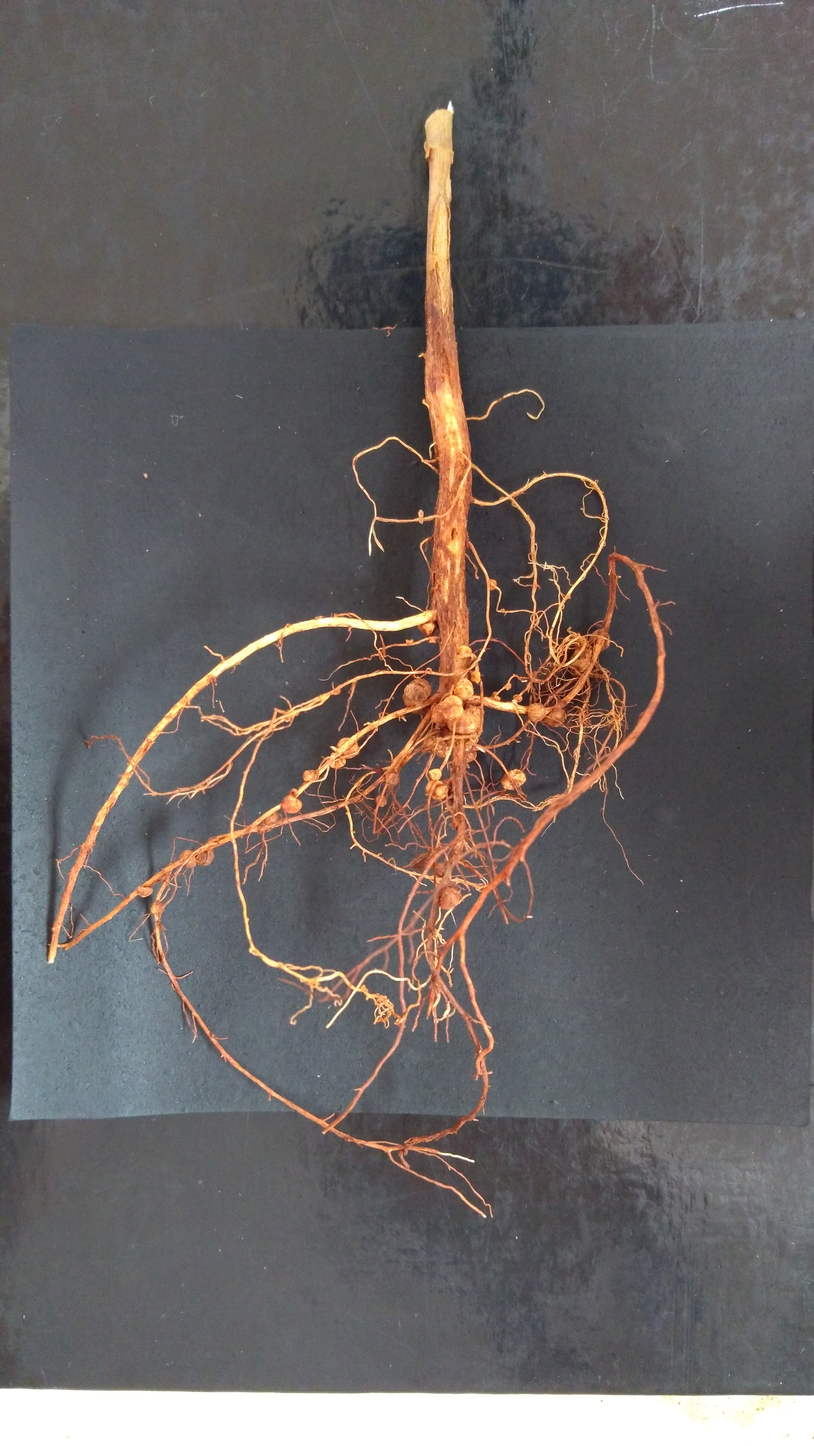nodule: (402, 678, 432, 715), (431, 695, 463, 725), (423, 728, 451, 757), (447, 708, 478, 734), (569, 647, 593, 675), (437, 885, 461, 910), (500, 769, 527, 790), (588, 629, 610, 652), (336, 737, 360, 758), (452, 678, 473, 701), (425, 780, 449, 800), (281, 794, 303, 813), (543, 709, 566, 727), (528, 702, 546, 722), (178, 849, 196, 868), (196, 848, 214, 866), (417, 622, 437, 638), (463, 743, 478, 763), (329, 752, 346, 769), (446, 792, 465, 807), (150, 899, 166, 915), (262, 811, 278, 826), (456, 645, 473, 659), (136, 885, 154, 898), (385, 772, 400, 785), (434, 862, 446, 878), (428, 768, 442, 781), (375, 794, 388, 807), (469, 670, 481, 684), (465, 737, 478, 749), (302, 770, 315, 782), (448, 817, 459, 830), (488, 578, 497, 591), (426, 636, 439, 645), (417, 509, 424, 525), (512, 694, 523, 703), (398, 1147, 408, 1156), (289, 788, 298, 797), (464, 539, 472, 549), (331, 689, 341, 696), (394, 1018, 402, 1026), (492, 695, 501, 702), (360, 984, 368, 991), (405, 639, 414, 645), (504, 683, 511, 690), (534, 618, 541, 624), (500, 608, 506, 613), (383, 995, 388, 1000)
